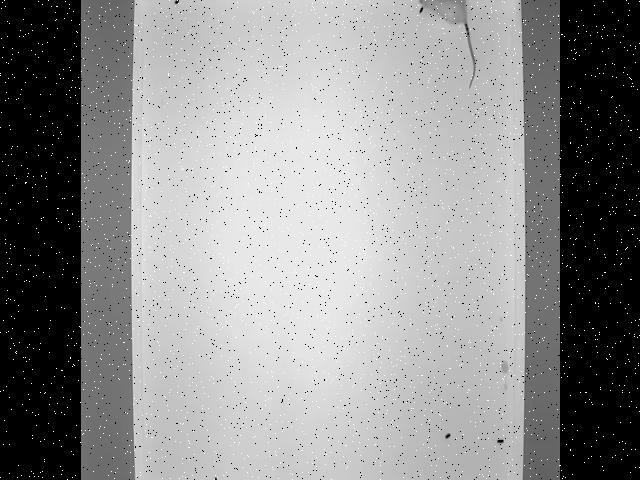Tikus: (414, 0, 480, 87)
